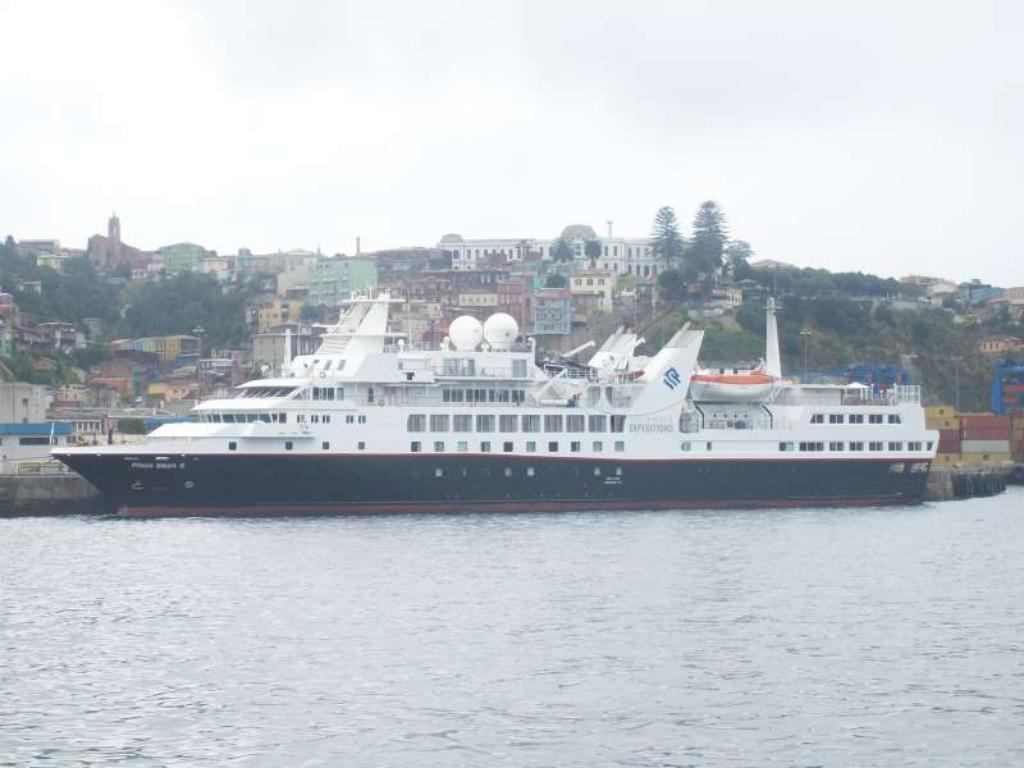PassengerShip: (50, 274, 948, 520)
